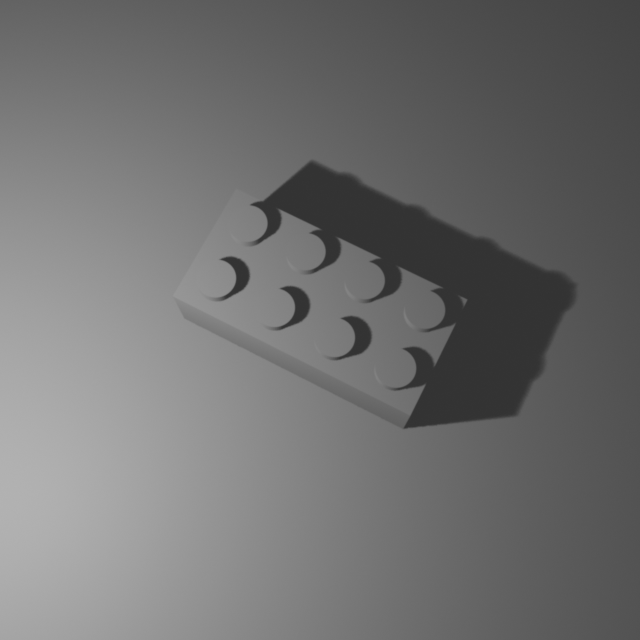lego_2x4: (171, 183, 470, 429)
